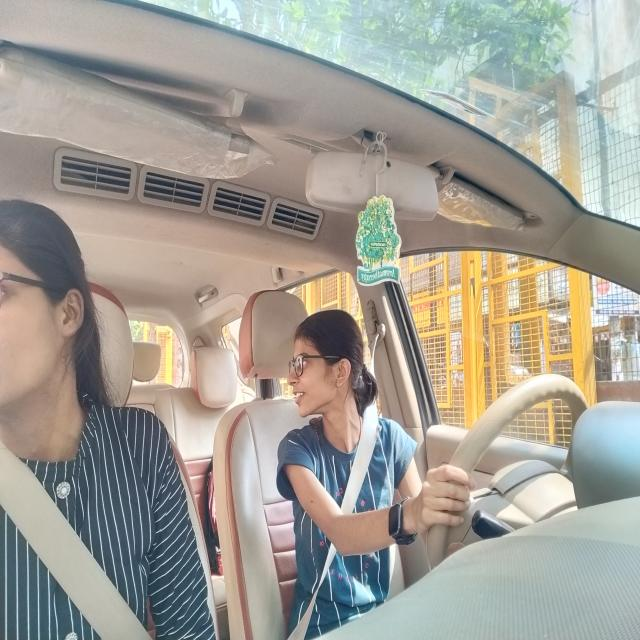LeftRight: (287, 306, 370, 438)
person: (0, 196, 92, 450)
